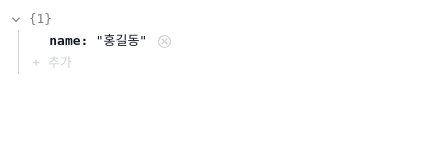
Scenario: TxJsonTree — 고치기 › 값을 누르면 편집 칸이 열린다
Click the button with aria-label "name 고치기" at (121, 41), box [92, 30, 150, 52]
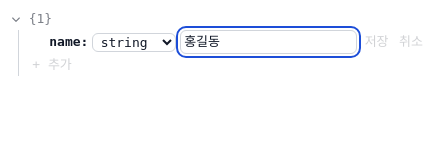
Expected: the field named "값" is shown, [180, 30, 357, 54]
